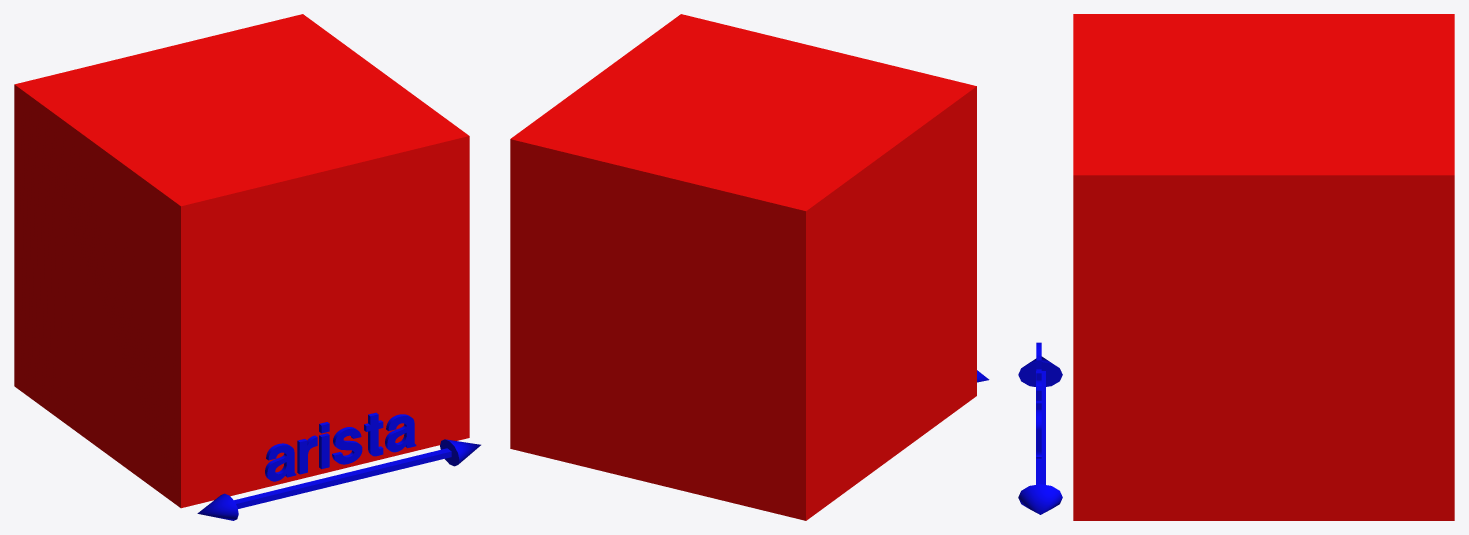
The model's file is asset.glb.
3 renders of one model, left to right at view 1: azimuth 30°, elevation 25°; view 2: azimuth 150°, elevation 25°; view 3: azimuth 270°, elevation 25°, orthographic. The views are drawn at different scales.
Visible parts, largest first — view 1: Cubo, Text, Box1, Cone1, Cone; view 2: Cubo; view 3: Cubo, Cone, Box1, Cone1, Text.
Boxes of the visible parts, x1,y1,x2,y2 form: Cubo: [14, 14, 469, 508]; Text: [265, 412, 416, 481]; Box1: [234, 448, 451, 508]; Cone1: [197, 493, 238, 520]; Cone: [440, 439, 480, 466]; Cubo: [510, 14, 976, 520]; Cubo: [1073, 14, 1454, 520]; Cone: [1018, 484, 1062, 514]; Box1: [1036, 371, 1045, 484]; Cone1: [1018, 356, 1062, 386]; Text: [1036, 342, 1041, 458].
Bounding box in the file's own units: 2.02 × 2.08 × 2.31.
